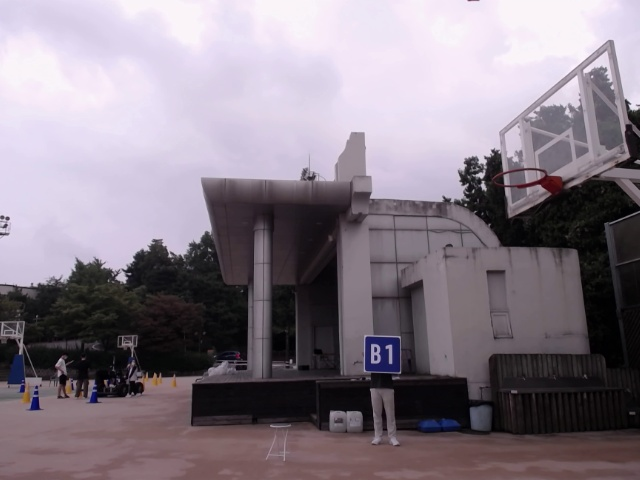delivery_b1: (364, 335, 402, 374)
